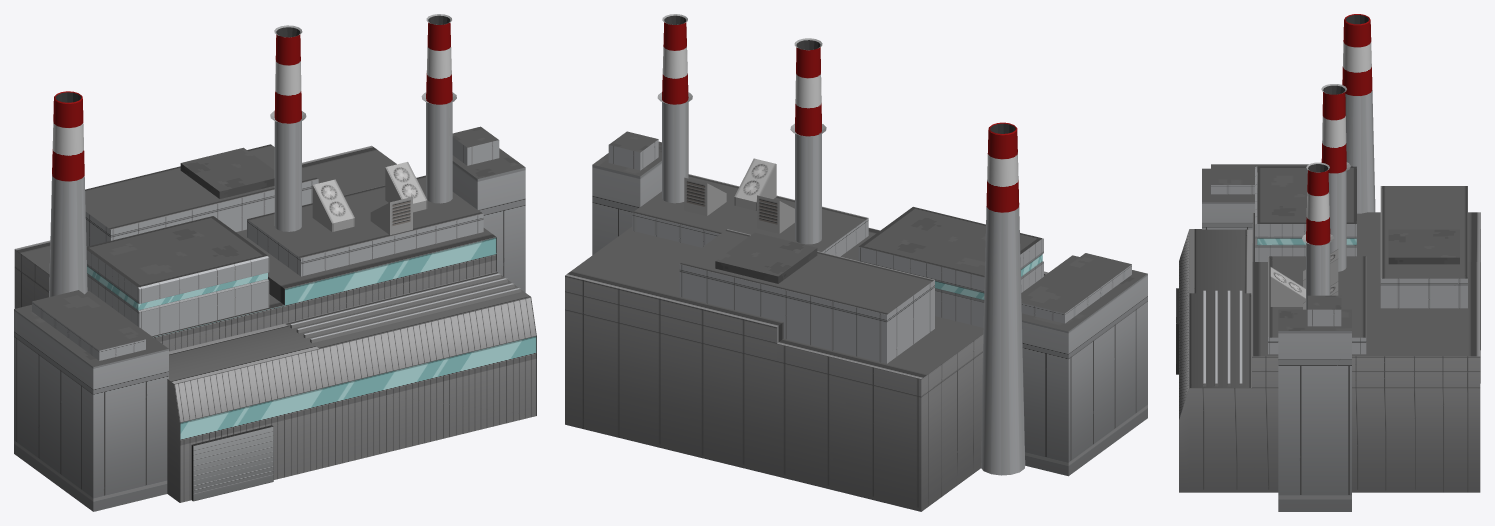
The model's file is industrial_power_plant.fbx.
The picture shows the model from 3 angles, left to right: view 1: azimuth 30°, elevation 25°; view 2: azimuth 150°, elevation 25°; view 3: azimuth 270°, elevation 25°; orthographic projection. The views are drawn at different scales.
Parts seen in each view (by area): view 1: ind:p_plant; view 2: ind:p_plant; view 3: ind:p_plant.
Part boxes in pixels (box(x1,y1,x2,y2)): ind:p_plant: box(14, 14, 536, 511); ind:p_plant: box(565, 14, 1147, 511); ind:p_plant: box(1176, 14, 1480, 511).
Bounding box in the file's own units: 48.08 × 35.12 × 29.35.
